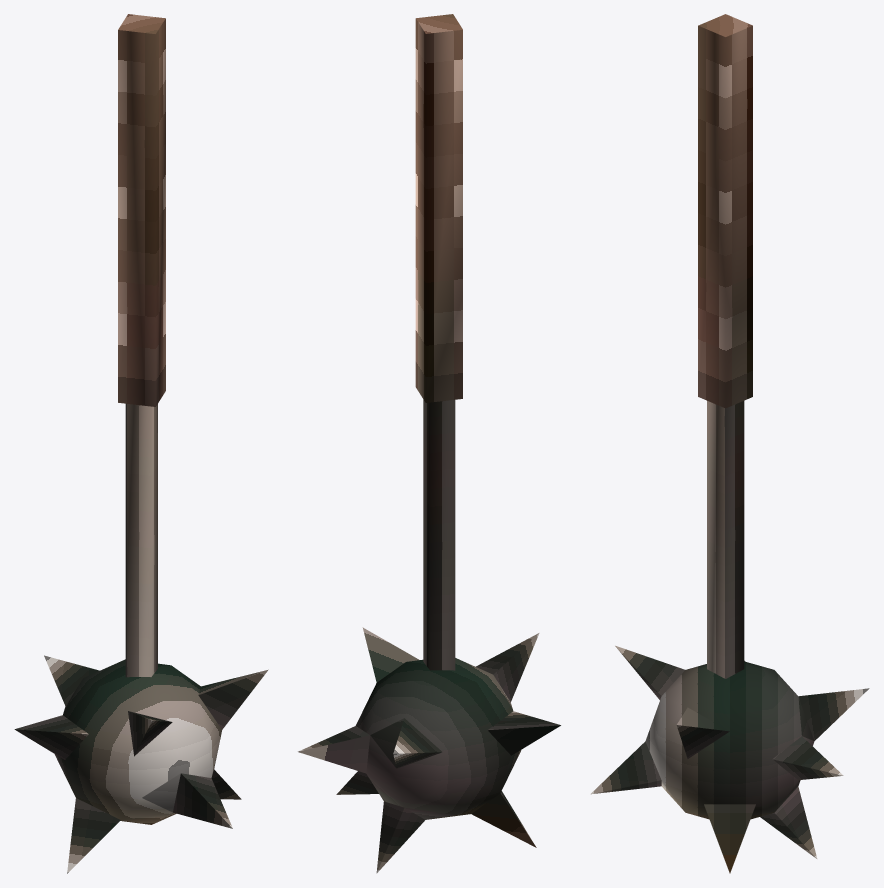
The model's file is Mace02.glb.
3 renders of one model, left to right at view 1: azimuth 30°, elevation 25°; view 2: azimuth 150°, elevation 25°; view 3: azimuth 270°, elevation 25°, orthographic.
Parts seen in each view (by area): view 1: model_Mace02; view 2: model_Mace02; view 3: model_Mace02.
Part boxes in pixels (box(x1,y1,x2,y2)): model_Mace02: box(14, 14, 268, 873); model_Mace02: box(298, 14, 560, 873); model_Mace02: box(590, 14, 869, 873).
Size of the model in its own units: 0.3826 by 1.33 by 0.4088.
1 material, 1 textured.
